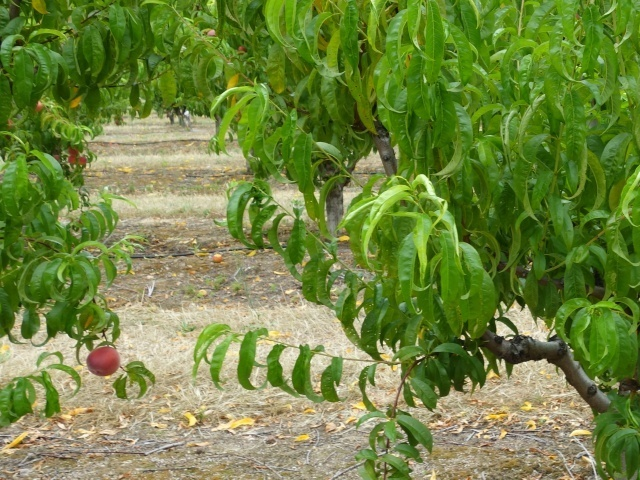peach: (85, 344, 124, 381)
